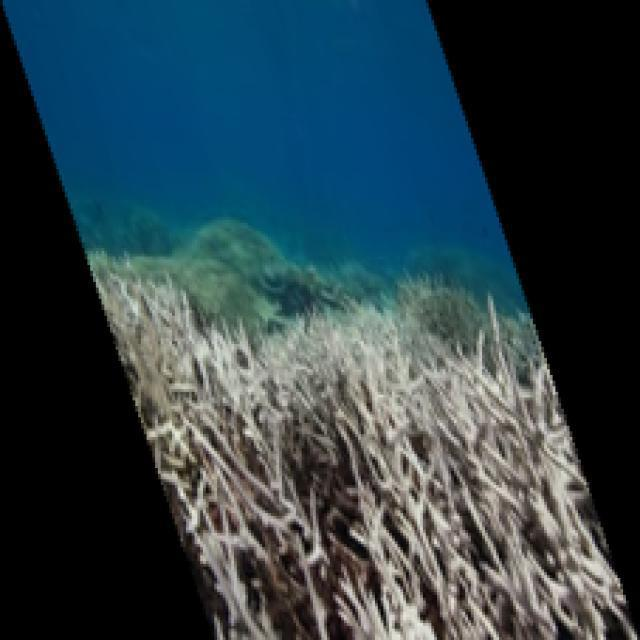Bleached: (90, 288, 640, 640), (182, 221, 320, 296), (315, 262, 533, 300), (80, 254, 256, 294)
